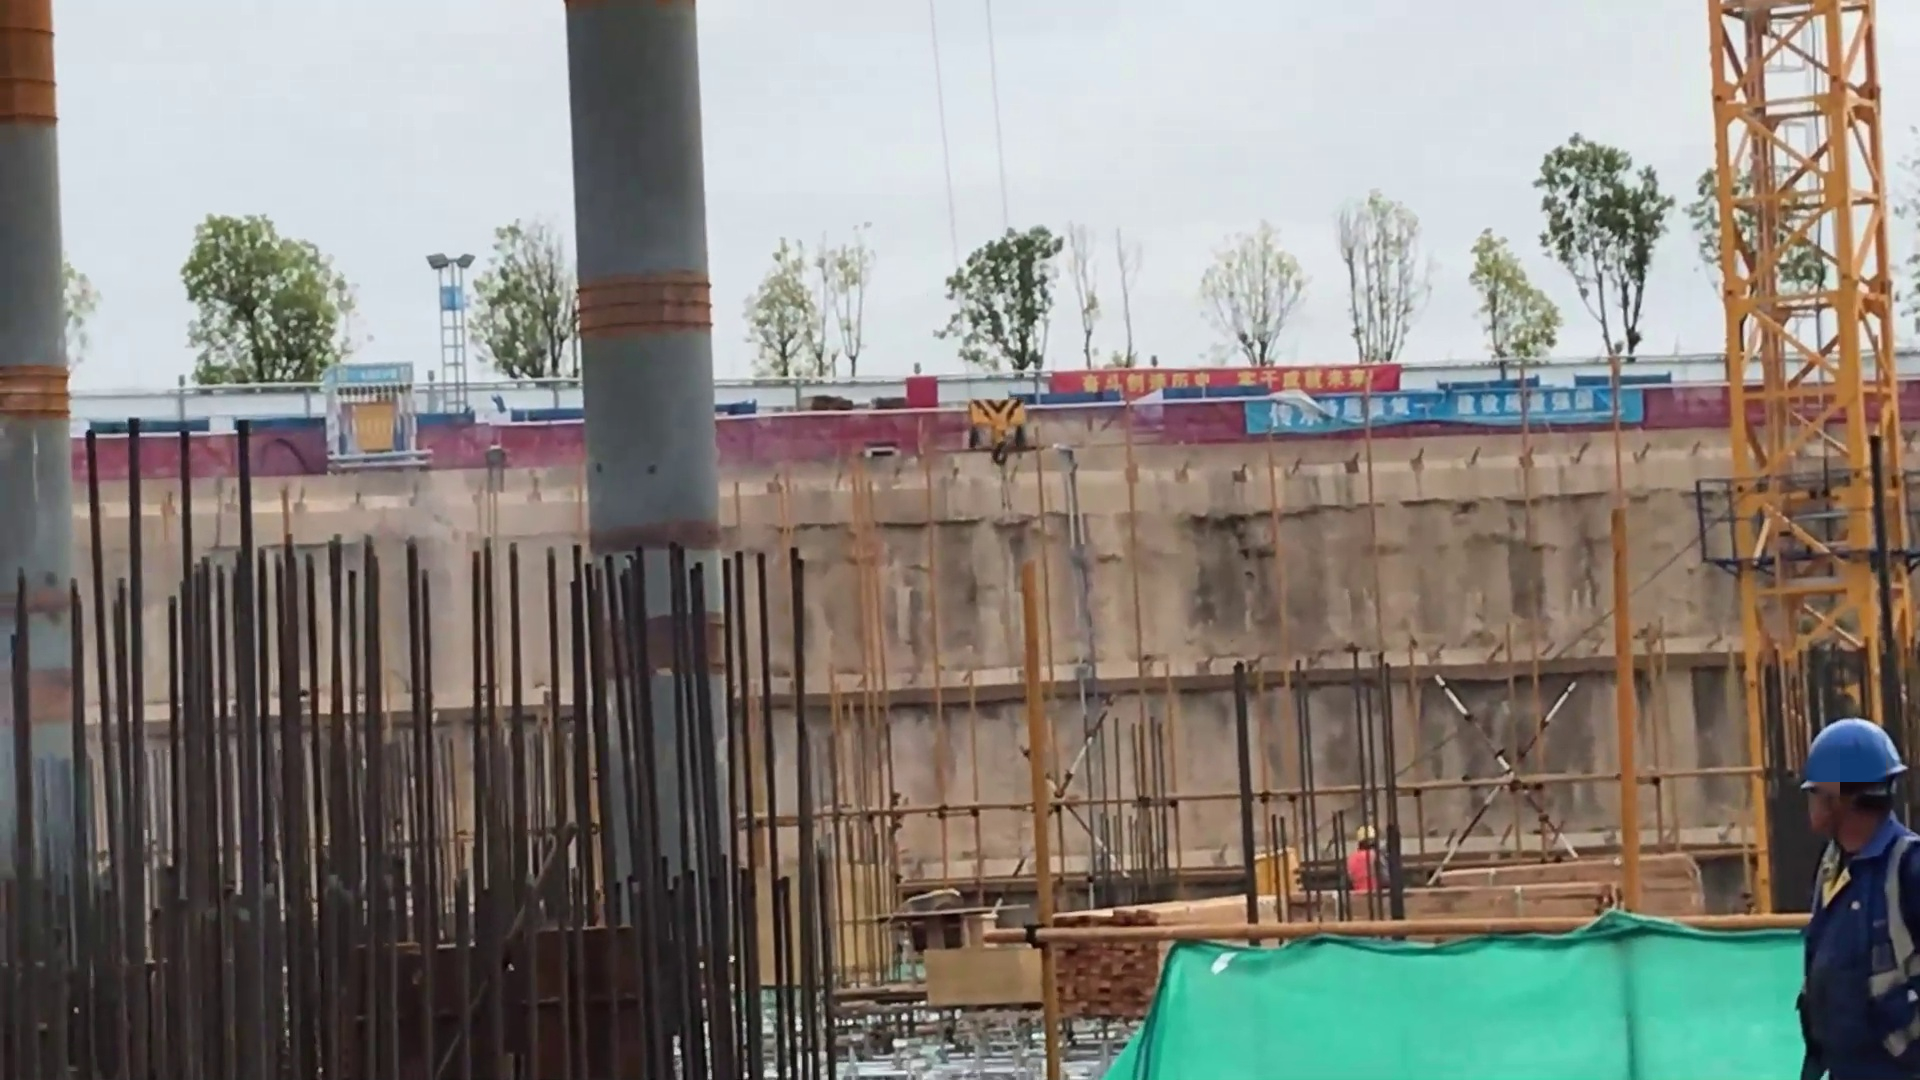ebox: (341, 399, 397, 452), (1254, 847, 1303, 892)
helmet: (1804, 717, 1910, 792)
hook: (963, 395, 1033, 468)
person: (1796, 719, 1920, 1080), (1348, 826, 1386, 892)
slogan: (1250, 387, 1642, 432), (1050, 364, 1401, 394)
vest: (1795, 825, 1920, 1080), (1347, 851, 1380, 892)
wood: (1404, 855, 1702, 914), (1054, 895, 1153, 1018)
